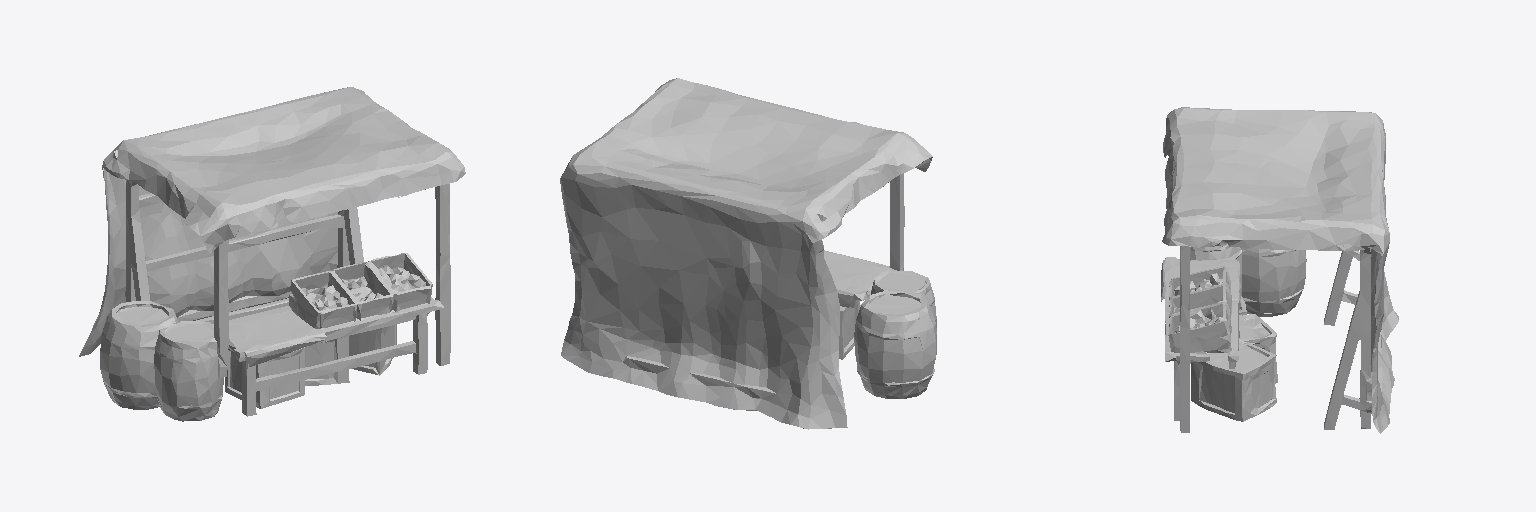
File: Market_Stall_Display_1122090300_texture.obj
The picture shows the model from 3 angles: view 1: azimuth 30°, elevation 25°; view 2: azimuth 150°, elevation 25°; view 3: azimuth 270°, elevation 25°; orthographic projection.
Parts seen in each view (by area): view 1: Market_Stall_Display_[number redacted]_texture; view 2: Market_Stall_Display_[number redacted]_texture; view 3: Market_Stall_Display_[number redacted]_texture.
Part boxes in pixels (x1,y1,x2,y2): Market_Stall_Display_[number redacted]_texture: (79,87,465,421); Market_Stall_Display_[number redacted]_texture: (560,78,936,429); Market_Stall_Display_[number redacted]_texture: (1161,107,1398,433).
Size of the model in its own units: 3.05 by 2 by 2.